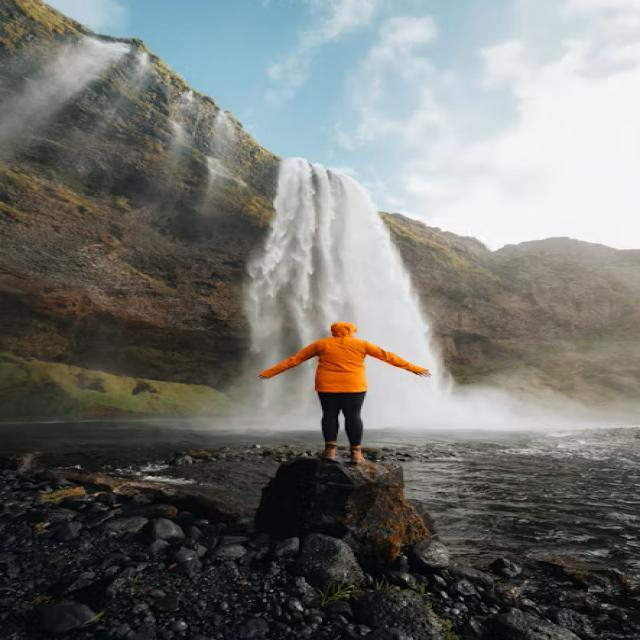Edited images: (217, 302, 449, 476)
